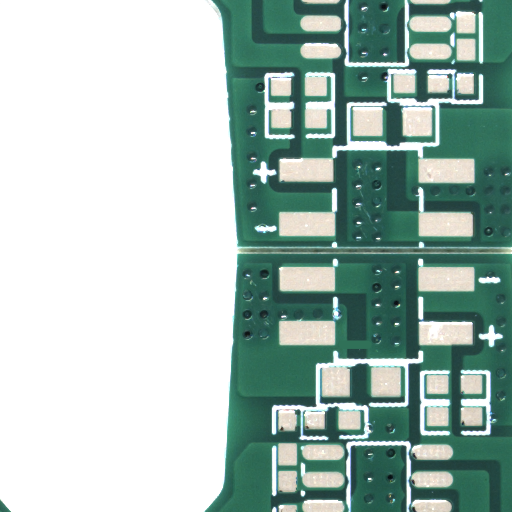Short: (357, 343, 382, 359)
